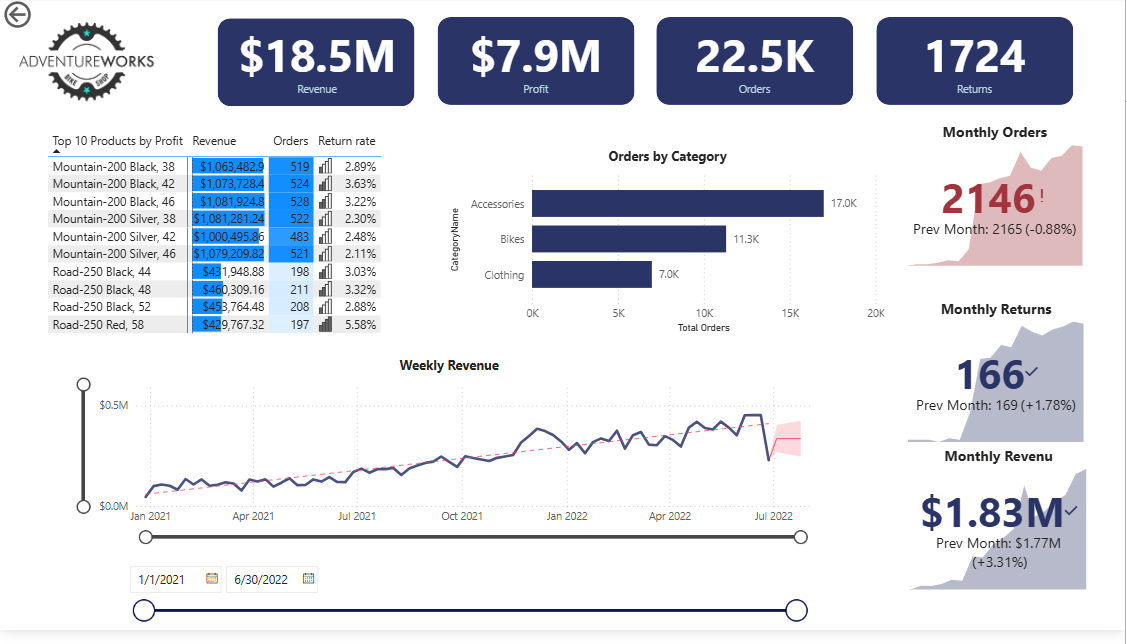

The dashboard page shown, as its layout file describes it:
{"tool":"powerbi","page":{"name":"EXECUTIVE","canvas":[1280,720],"ordinal":0},"visuals":[{"type":"actionButton","box":[0,0,100,40],"z":0},{"type":"kpi","title":"Monthly Orders","fields":{"Indicator":["Sales.Total Orders"],"TrendLine":["AW Calendar Lookup.Start of Month"],"Goal":["Sales.Prev Month Orders"]},"box":[1026.9,142.4,210,168.7],"z":0,"group":"g1"},{"type":"shape","box":[247.3,24.1,224.4,100.1],"z":1000},{"type":"kpi","title":"Monthly Revenu","fields":{"TrendLine":["AW Calendar Lookup.Start of Month"],"Indicator":["Sales.Total Revenue"],"Goal":["Sales.Prev Month Revenu"]},"box":[1030.5,511.2,210,168.7],"z":1000,"group":"g1"},{"type":"shape","box":[497.3,23.2,224.4,100.1],"z":2000},{"type":"kpi","title":"Monthly Returns","fields":{"TrendLine":["AW Calendar Lookup.Start of Month"],"Indicator":["Returns.Total Returns"],"Goal":["Sales.Prev Month Rturns"]},"box":[1028.7,342.4,210,168.7],"z":2000,"group":"g1"},{"type":"shape","box":[747,23.2,224.4,100.1],"z":3000},{"type":"shape","box":[996.8,23.2,224.4,100.1],"z":4000},{"type":"card","fields":{"Values":["Sum(Sales.Revenue)"]},"box":[263,20.5,195.4,103.8],"z":5000},{"type":"card","fields":{"Values":["Sales.Total Profit"]},"box":[511.5,19.3,195.4,103.8],"z":6000},{"type":"card","fields":{"Values":["Returns.Total Returns"]},"box":[1011,19.3,195.4,103.8],"z":7000},{"type":"card","fields":{"Values":["Sales.Total Orders"]},"box":[761.3,19.3,195.4,103.8],"z":8000},{"type":"pivotTable","fields":{"Rows":["AW Product Lookup.ProductName"],"Values":["Sum(Sales.Revenue)","Sales.Total Orders","Returns.Return rate"]},"box":[49.8,147.7,446.7,263.4],"z":9000},{"type":"barChart","title":"Orders by Category","fields":{"Category":["AW Product Categories Lookup.CategoryName"],"Y":["Sales.Total Orders"]},"box":[507.2,170.9,503.7,217.1],"z":10000},{"type":"group","id":"g1","title":"KPIs","box":[1026.9,142.4,213.6,537.5],"z":11000},{"type":"slicer","fields":{"Values":["AW Calendar Lookup.Date"]},"box":[135.3,637.2,792,83.6],"z":12000},{"type":"lineChart","title":"Weekly Revenue","fields":{"Category":["AW Calendar Lookup.Start of Week"],"Y":["Sales.Total Revenue"]},"box":[83.6,407.6,854.3,217.1],"z":13000},{"type":"image","box":[0,0,198,147.6],"z":14000}]}

Visuals, with their boxes in screenshot pixels (x1, y1, x2, y2), scaled from the page's 1280x720 canvas onto the 1127x644 screenshot:
actionButton: [x1=0, y1=0, x2=88, y2=36]
"Monthly Orders" kpi: [x1=904, y1=127, x2=1089, y2=278]
shape: [x1=218, y1=22, x2=415, y2=111]
"Monthly Revenu" kpi: [x1=907, y1=457, x2=1092, y2=608]
shape: [x1=438, y1=21, x2=635, y2=110]
"Monthly Returns" kpi: [x1=906, y1=306, x2=1091, y2=457]
shape: [x1=658, y1=21, x2=855, y2=110]
shape: [x1=878, y1=21, x2=1075, y2=110]
card - Sum(Sales.Revenue): [x1=232, y1=18, x2=404, y2=111]
card - Sales.Total Profit: [x1=450, y1=17, x2=622, y2=110]
card - Returns.Total Returns: [x1=890, y1=17, x2=1062, y2=110]
card - Sales.Total Orders: [x1=670, y1=17, x2=842, y2=110]
pivotTable - AW Product Lookup.ProductName x Sum(Sales.Revenue): [x1=44, y1=132, x2=437, y2=368]
"Orders by Category" barChart: [x1=447, y1=153, x2=890, y2=347]
"KPIs" group: [x1=904, y1=127, x2=1092, y2=608]
slicer - AW Calendar Lookup.Date: [x1=119, y1=570, x2=816, y2=643]
"Weekly Revenue" lineChart: [x1=74, y1=365, x2=826, y2=559]
image: [x1=0, y1=0, x2=174, y2=132]
